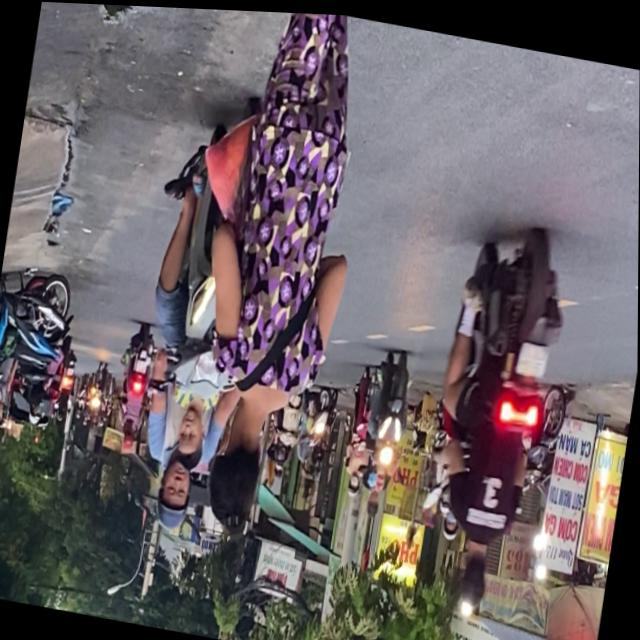helmet: (152, 457, 198, 534)
licenseplate: (115, 77, 286, 544), (409, 209, 577, 621), (356, 344, 420, 520)
motorcyclist: (455, 538, 495, 610), (169, 400, 213, 465), (366, 488, 382, 515)
nohelmet: (517, 339, 551, 375)
